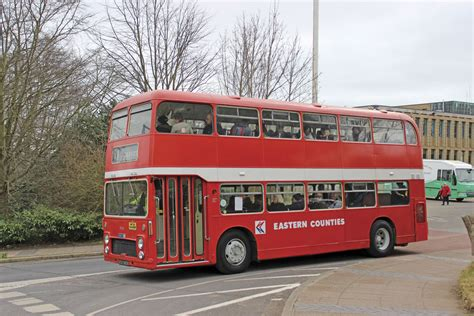bus: (106, 99, 427, 269)
